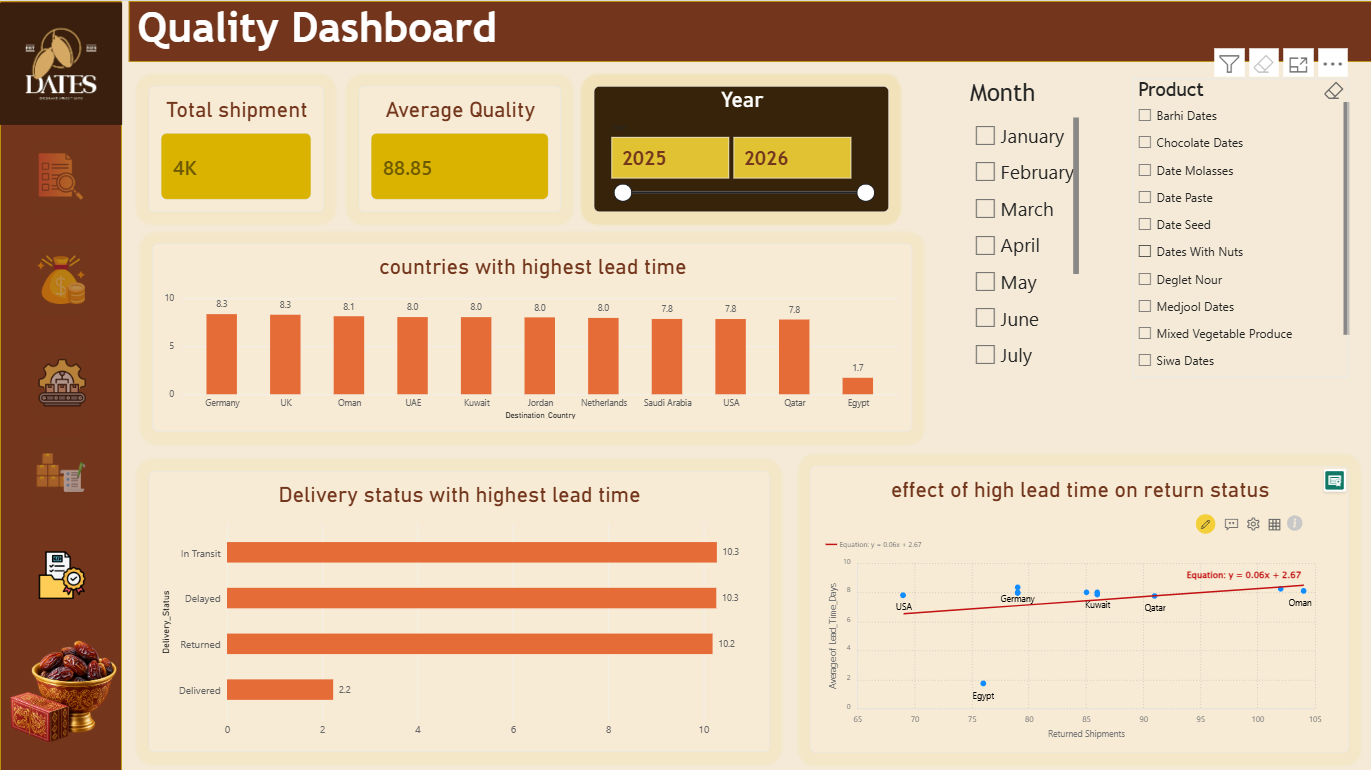

What the dashboard file says about the page in this screenshot:
{"tool":"powerbi","page":{"name":"Quality","canvas":[1920,1080],"ordinal":4},"visuals":[{"type":"shape","box":[0,0,170,1081],"z":0},{"type":"shape","box":[179,0,1741,85],"z":1000},{"type":"image","box":[0,1.7,170,171.7],"z":2000},{"type":"textbox","title":"Quality Dashboard","box":[192.7,1.7,741.7,116.7],"z":3000},{"type":"image","box":[11.5,842.4,150,235.7],"z":4000},{"type":"cardVisual","title":"Total shipment","fields":{"Data":["MyMeasures.Total Shipments"]},"box":[208,118,244,176],"z":7000},{"type":"barChart","title":"Delivery status with highest lead time","fields":{"Category":["shipDim.Delivery_Status"],"Y":["Avg(FactTransaction.Lead_Time_Days)"]},"box":[208,656,866,392],"z":9000},{"type":"columnChart","title":"countries with highest lead time","fields":{"Category":["shipDim.Destination_Country"],"Y":["Avg(FactTransaction.Lead_Time_Days)"]},"box":[212,338,1060,262],"z":10000},{"type":"actionButton","box":[50.6,193.6,69,102],"z":11000},{"type":"actionButton","box":[50.6,338.4,69,102],"z":12000},{"type":"actionButton","box":[52.3,481.4,69,102],"z":13000},{"type":"actionButton","box":[52.3,750,69,102],"z":14000},{"type":"actionButton","box":[50.6,607,69,102],"z":15000},{"type":"cardVisual","title":"Average Quality","fields":{"Data":["MyMeasures.AVGTotalQuality"]},"box":[500,118,282,176],"z":16000},{"type":"slicer","fields":{"Values":["productDim.Product"]},"box":[1580.2,108.1,302.5,417.5],"z":17000},{"type":"slicer","title":"Year","fields":{"Values":["DateDim.Date.Variation.Date Hierarchy.Year"]},"box":[828,118,412,176],"z":19000},{"type":"slicer","title":"Month","fields":{"Values":["DateDim.Date.Variation.Date Hierarchy.Month"]},"box":[1354,108,152,420],"z":20000},{"type":"performanceBubbleChartFBAAA829CB604E5CAB4F21729F233294","title":"effect of high lead time on return status","fields":{"category":["shipDim.Destination_Country"],"xmeasure":["MyMeasures.Returned Shipments"],"ymeasure":["Avg(FactTransaction.Lead_Time_Days)"]},"box":[1130,648,752,400],"z":21000}]}

Visuals, with their boxes in screenshot pixels (x1, y1, x2, y2), scaled from the page's 1920x1080 canvas onto the 1371x770 screenshot:
shape: <region>0, 0, 121, 769</region>
shape: <region>128, 0, 1370, 61</region>
image: <region>0, 1, 121, 124</region>
"Quality Dashboard" textbox: <region>138, 1, 667, 84</region>
image: <region>8, 601, 115, 769</region>
"Total shipment" cardVisual: <region>149, 84, 323, 210</region>
"Delivery status with highest lead time" barChart: <region>149, 468, 767, 747</region>
"countries with highest lead time" columnChart: <region>151, 241, 908, 428</region>
actionButton: <region>36, 138, 85, 211</region>
actionButton: <region>36, 241, 85, 314</region>
actionButton: <region>37, 343, 87, 416</region>
actionButton: <region>37, 535, 87, 607</region>
actionButton: <region>36, 433, 85, 505</region>
"Average Quality" cardVisual: <region>357, 84, 558, 210</region>
slicer - productDim.Product: <region>1128, 77, 1344, 375</region>
"Year" slicer: <region>591, 84, 885, 210</region>
"Month" slicer: <region>967, 77, 1075, 376</region>
"effect of high lead time on return status" performanceBubbleChartFBAAA829CB604E5CAB4F21729F233294: <region>807, 462, 1344, 747</region>
